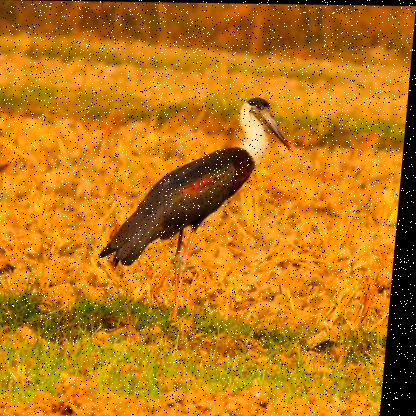Burung: (93, 94, 301, 329)
